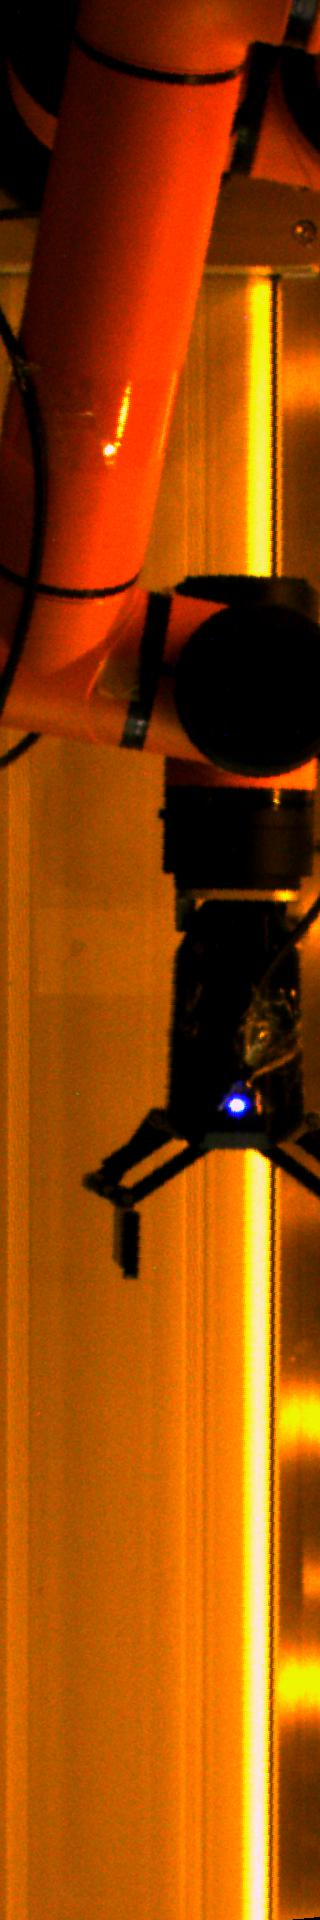keyPoint_1: (222, 1089, 253, 1118)
